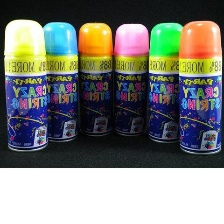aerosol_cans: (2, 15, 50, 155), (175, 18, 223, 158), (142, 17, 188, 144), (36, 19, 81, 146), (112, 19, 154, 140), (76, 20, 117, 138)
